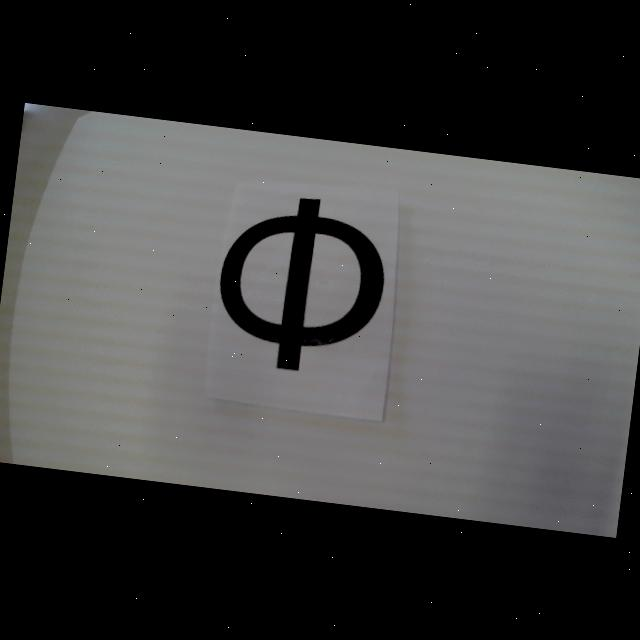PHI: (210, 186, 393, 381)
